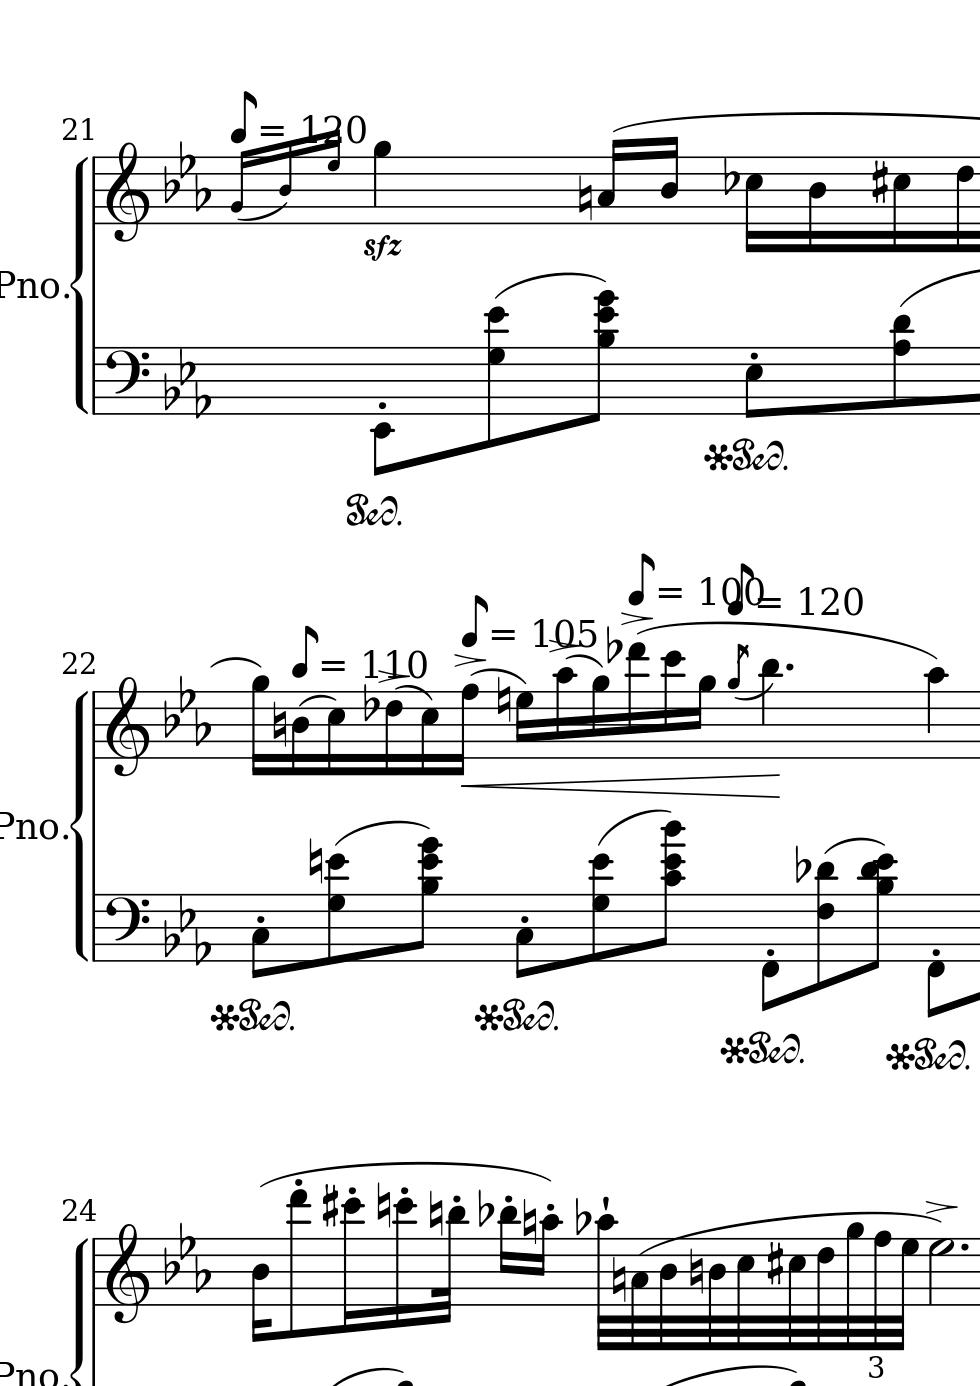0: (552, 617, 575, 648), (407, 649, 430, 681), (843, 585, 864, 617), (346, 113, 366, 146)
1: (799, 583, 815, 618), (387, 645, 403, 679), (533, 616, 547, 652), (80, 116, 94, 144), (365, 648, 379, 678), (303, 113, 317, 141)
16_10: (533, 1212, 562, 1308), (552, 666, 577, 759)
16_11: (497, 1204, 519, 1308)
16_12: (342, 1196, 365, 1337), (393, 1195, 417, 1331), (660, 647, 683, 761)
16_13: (625, 641, 647, 761)
16_3: (596, 138, 626, 226)
16_4: (249, 1236, 272, 1344), (806, 154, 828, 256), (659, 135, 680, 226), (288, 690, 309, 777)
16_5: (891, 154, 913, 255), (743, 154, 764, 256), (326, 691, 347, 778), (419, 691, 440, 778)
16_6: (953, 153, 976, 255), (384, 690, 403, 777)
16_7: (514, 690, 533, 761)
16_8: (448, 682, 480, 777)
16_9: (689, 673, 716, 760), (249, 673, 270, 777), (590, 674, 610, 760)
2: (819, 585, 841, 617), (323, 113, 343, 145), (77, 650, 97, 677), (60, 116, 78, 143), (60, 650, 78, 677), (60, 1197, 78, 1224)
2_7: (925, 1239, 955, 1308)
3: (867, 1354, 883, 1381)
32_10: (591, 1213, 619, 1352)
32_11: (434, 1204, 468, 1326)
32_3: (628, 1236, 649, 1352)
32_4: (657, 1234, 678, 1353), (707, 1236, 727, 1352)
32_5: (735, 1236, 757, 1352)
32_6: (787, 1236, 809, 1353), (815, 1236, 835, 1350)
32_7: (896, 1238, 921, 1351)
32_8: (873, 1229, 892, 1351)
32_9: (846, 1220, 864, 1352)
4: (78, 1197, 97, 1225)
4_10: (924, 666, 948, 760)
4_11: (758, 656, 778, 764)
4_6_11: (813, 860, 840, 990)
4_7_12: (483, 304, 510, 448), (323, 853, 349, 964), (587, 853, 612, 963)
4_8_11: (890, 313, 915, 417)
4_9: (371, 139, 392, 225)
5: (577, 616, 599, 648)
8_-1: (759, 892, 781, 1010), (926, 892, 945, 1020)
8_-2: (368, 345, 395, 477)
8_13: (286, 1185, 310, 1341)
8_3: (249, 893, 270, 980), (513, 893, 533, 980)
8_5: (743, 345, 764, 421)
8_th: (587, 290, 619, 425)
Accent_above: (617, 609, 653, 627), (450, 651, 486, 669), (923, 1197, 959, 1215)
Acciaccature: (727, 639, 748, 761)
Brace: (69, 688, 88, 962), (72, 157, 91, 415), (69, 1235, 90, 1386)
Crescendo_hairpin: (461, 773, 783, 797)
E_F: (160, 893, 213, 966), (161, 345, 213, 419), (161, 1220, 212, 1294), (162, 674, 212, 748), (162, 139, 211, 212)
Fclef: (102, 892, 148, 963), (103, 345, 148, 416)
Flat: (719, 155, 738, 197), (572, 1195, 590, 1235), (793, 842, 810, 883), (475, 1187, 492, 1228), (362, 684, 377, 723)
Gclef: (104, 1221, 148, 1326), (104, 139, 148, 243), (104, 674, 148, 778)
Natural: (575, 172, 593, 224), (494, 674, 511, 725), (307, 837, 323, 885), (427, 1189, 444, 1238), (520, 1196, 537, 1244), (687, 1246, 704, 1294), (610, 1256, 626, 1305), (272, 701, 287, 749), (375, 1182, 390, 1229)
Pno: (1, 807, 60, 842), (1, 267, 59, 300)
Sharp: (869, 158, 889, 208), (321, 1183, 339, 1230), (766, 1240, 784, 1286)
Single_barline: (87, 691, 102, 759), (88, 157, 102, 225), (88, 347, 102, 415), (88, 1239, 102, 1306), (88, 895, 102, 962)
Slur: (640, 1209, 945, 1256), (257, 1161, 555, 1186), (493, 269, 607, 298), (595, 807, 672, 848), (334, 820, 430, 843), (824, 835, 883, 856), (235, 203, 286, 223), (471, 669, 528, 686), (730, 684, 774, 704), (207, 655, 262, 669), (393, 683, 435, 701), (563, 653, 603, 669), (297, 694, 336, 708)
Speed8: (628, 549, 685, 607), (232, 88, 286, 144), (293, 622, 346, 677), (460, 593, 517, 644)
dot: (782, 660, 797, 676), (957, 1241, 972, 1255)
sfz: (361, 235, 401, 264)
